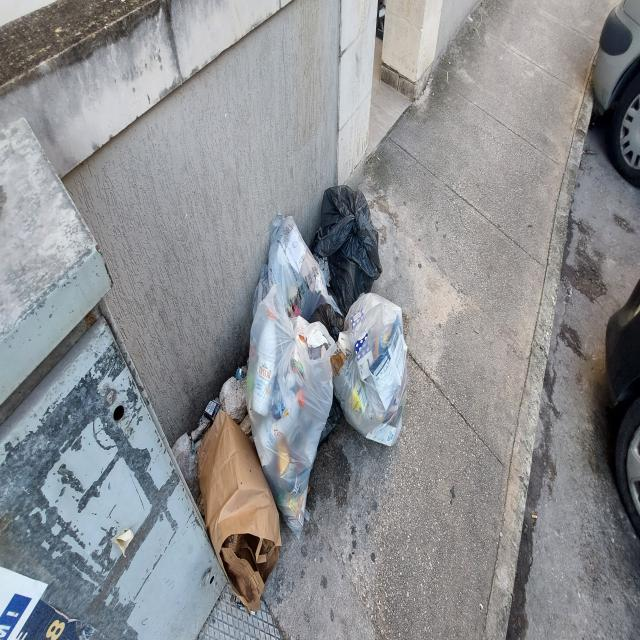Mixed Waste -Black Bag-: (316, 184, 383, 312)
Organic Waste -White Bag-: (245, 287, 336, 545), (336, 294, 410, 449), (254, 213, 331, 327)
Other: (180, 367, 281, 597)
